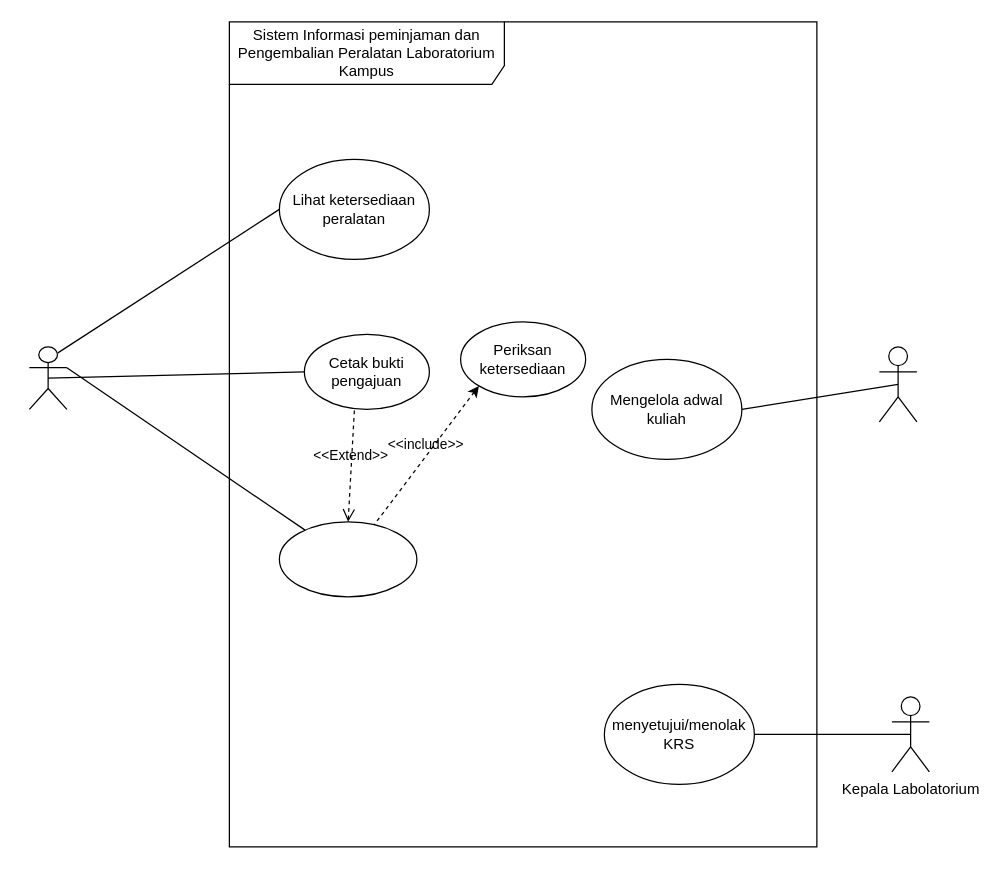
Image size: 1001x869. Some labels were removed from this diagram. Each missing label, with the box of its shape:
Ajukan Peminjaman: (278, 521, 417, 597)
Peinjam: (28, 346, 67, 409)
Petugas Laporan: (878, 346, 917, 422)
